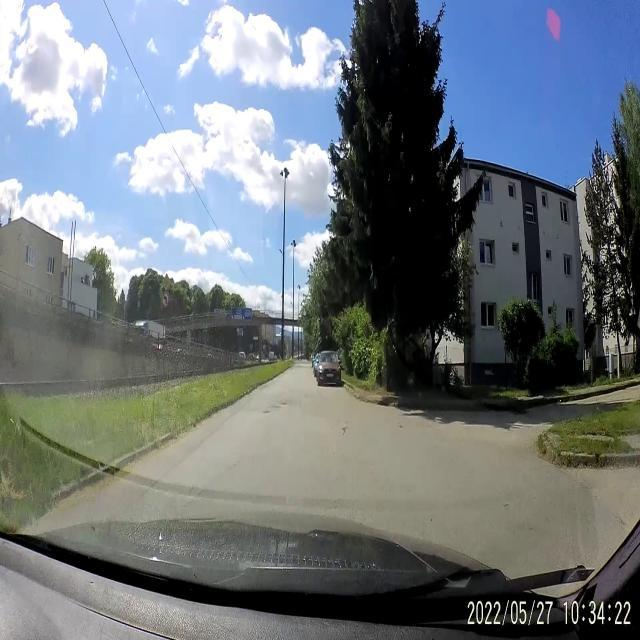Pothole: (339, 419, 352, 438), (276, 396, 289, 408), (260, 409, 272, 419)
